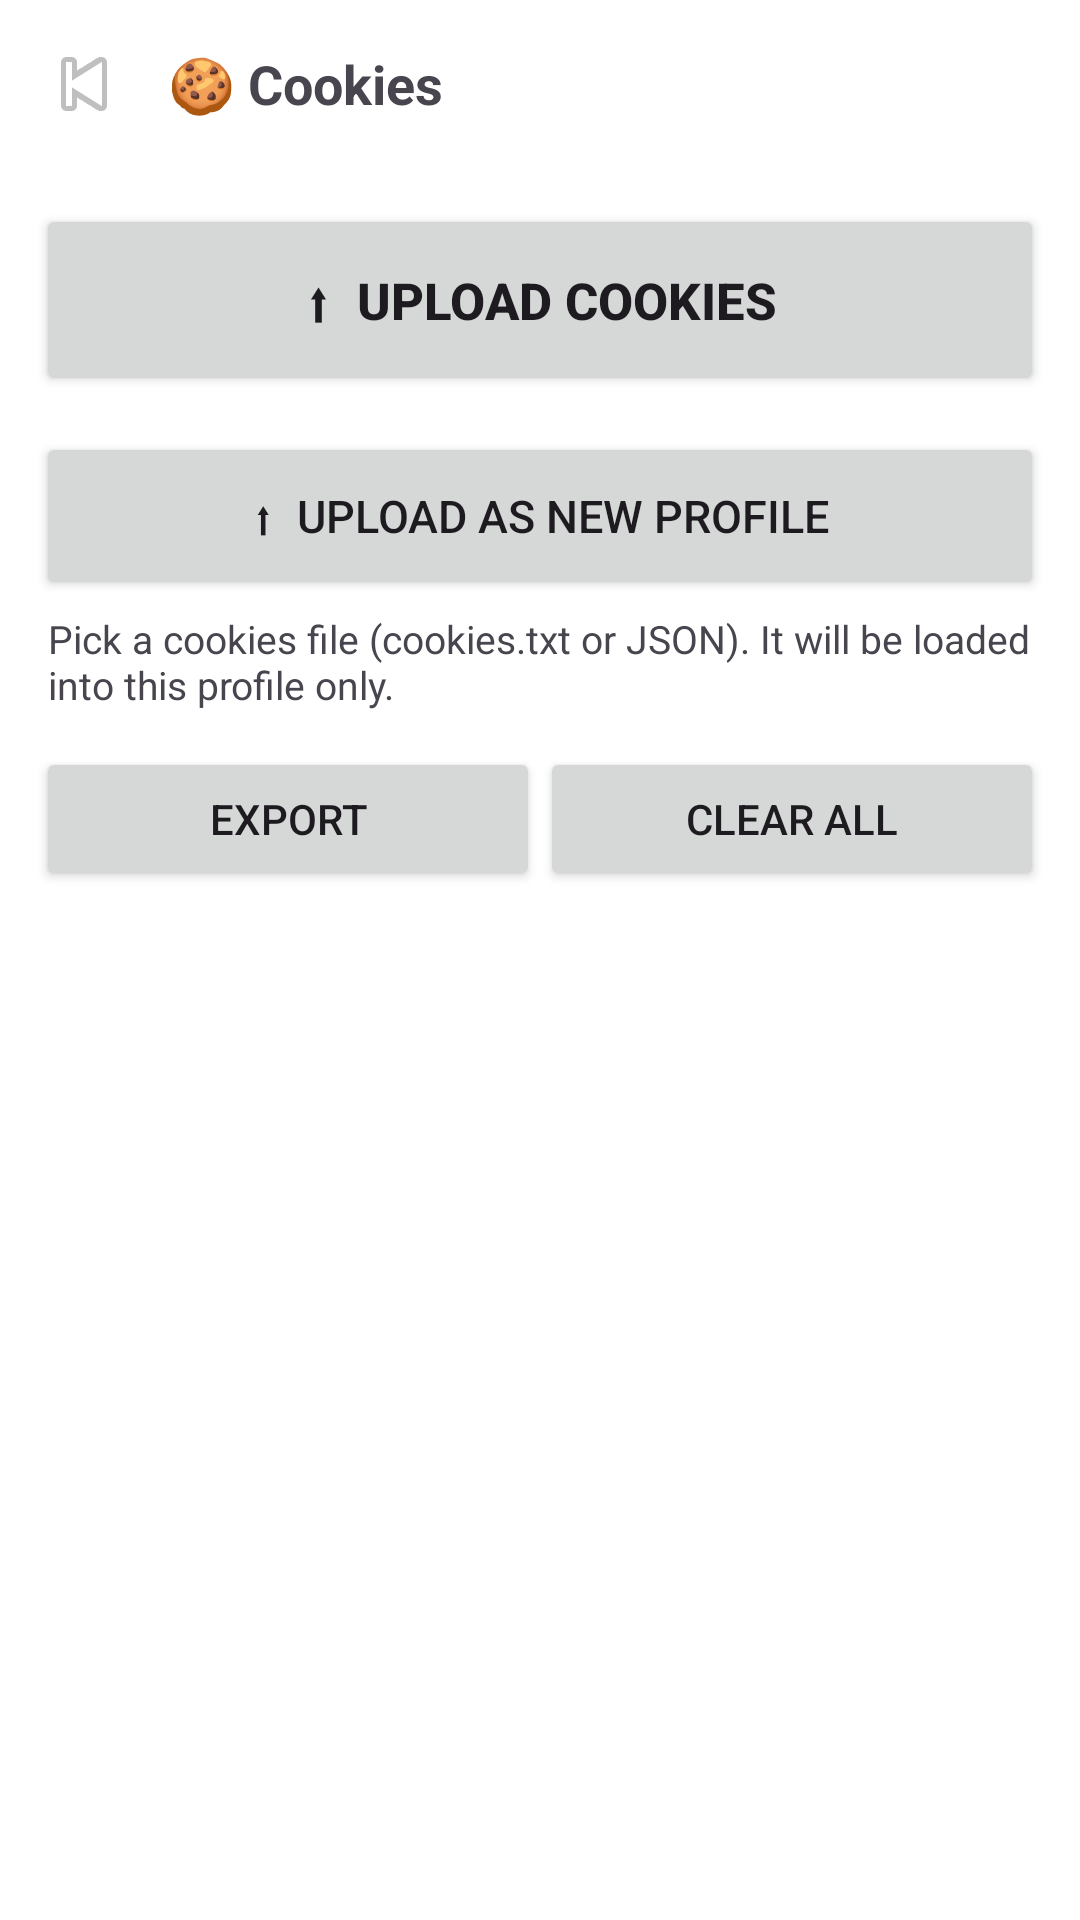

Locate icon controls on the screen. Image size 1080w x 1920h, boxes as (x1, y1, x2, y2).
Back: (61, 57, 107, 111)
